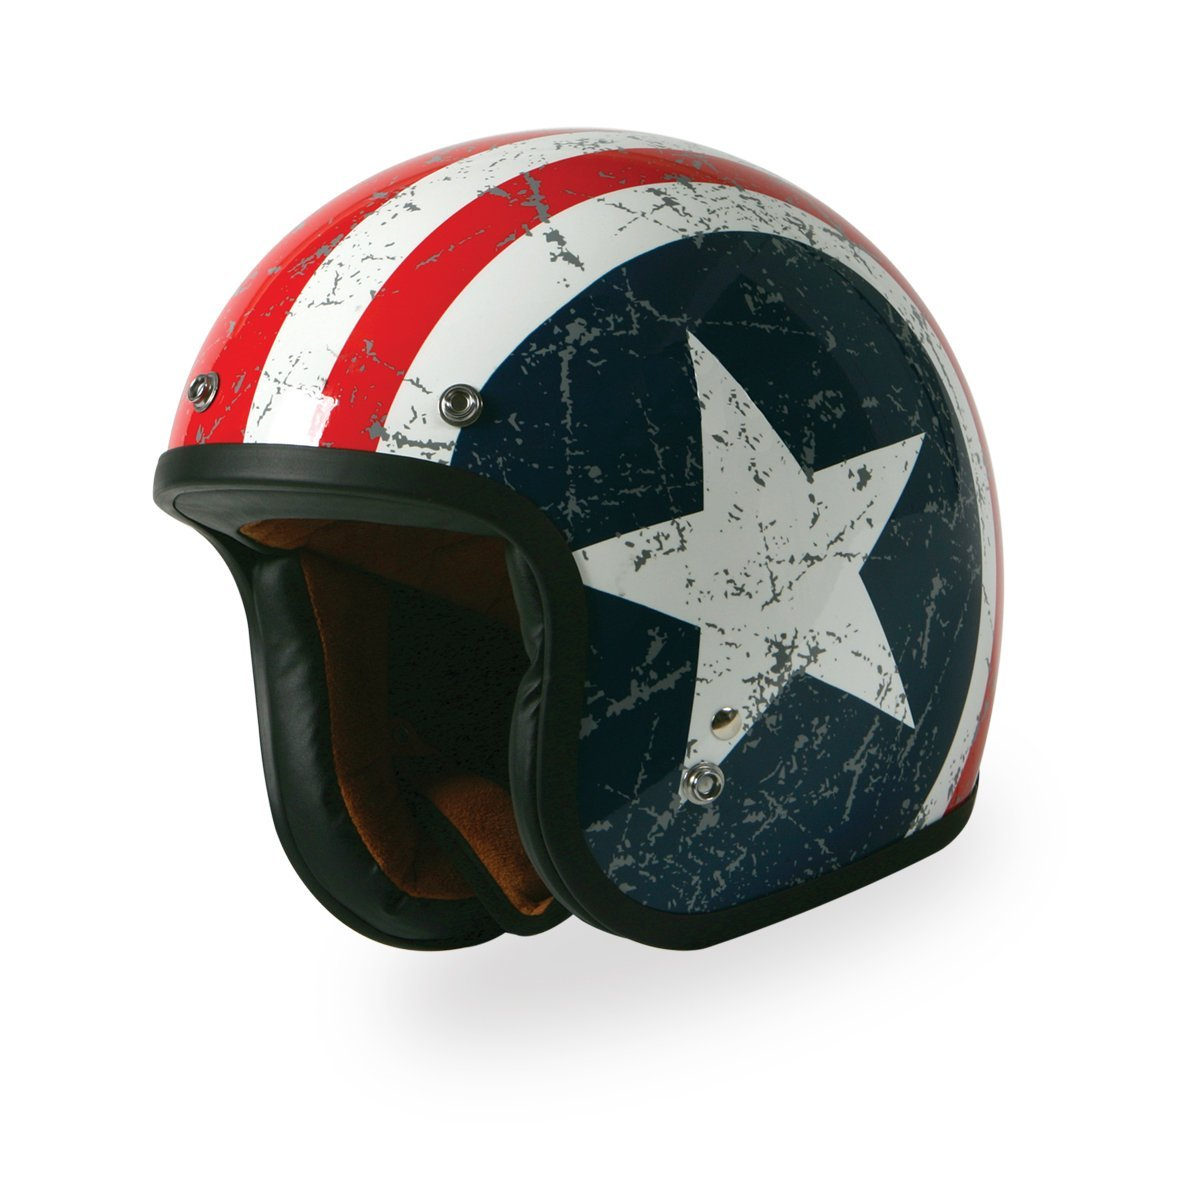with_helmet: (144, 114, 1022, 959)
